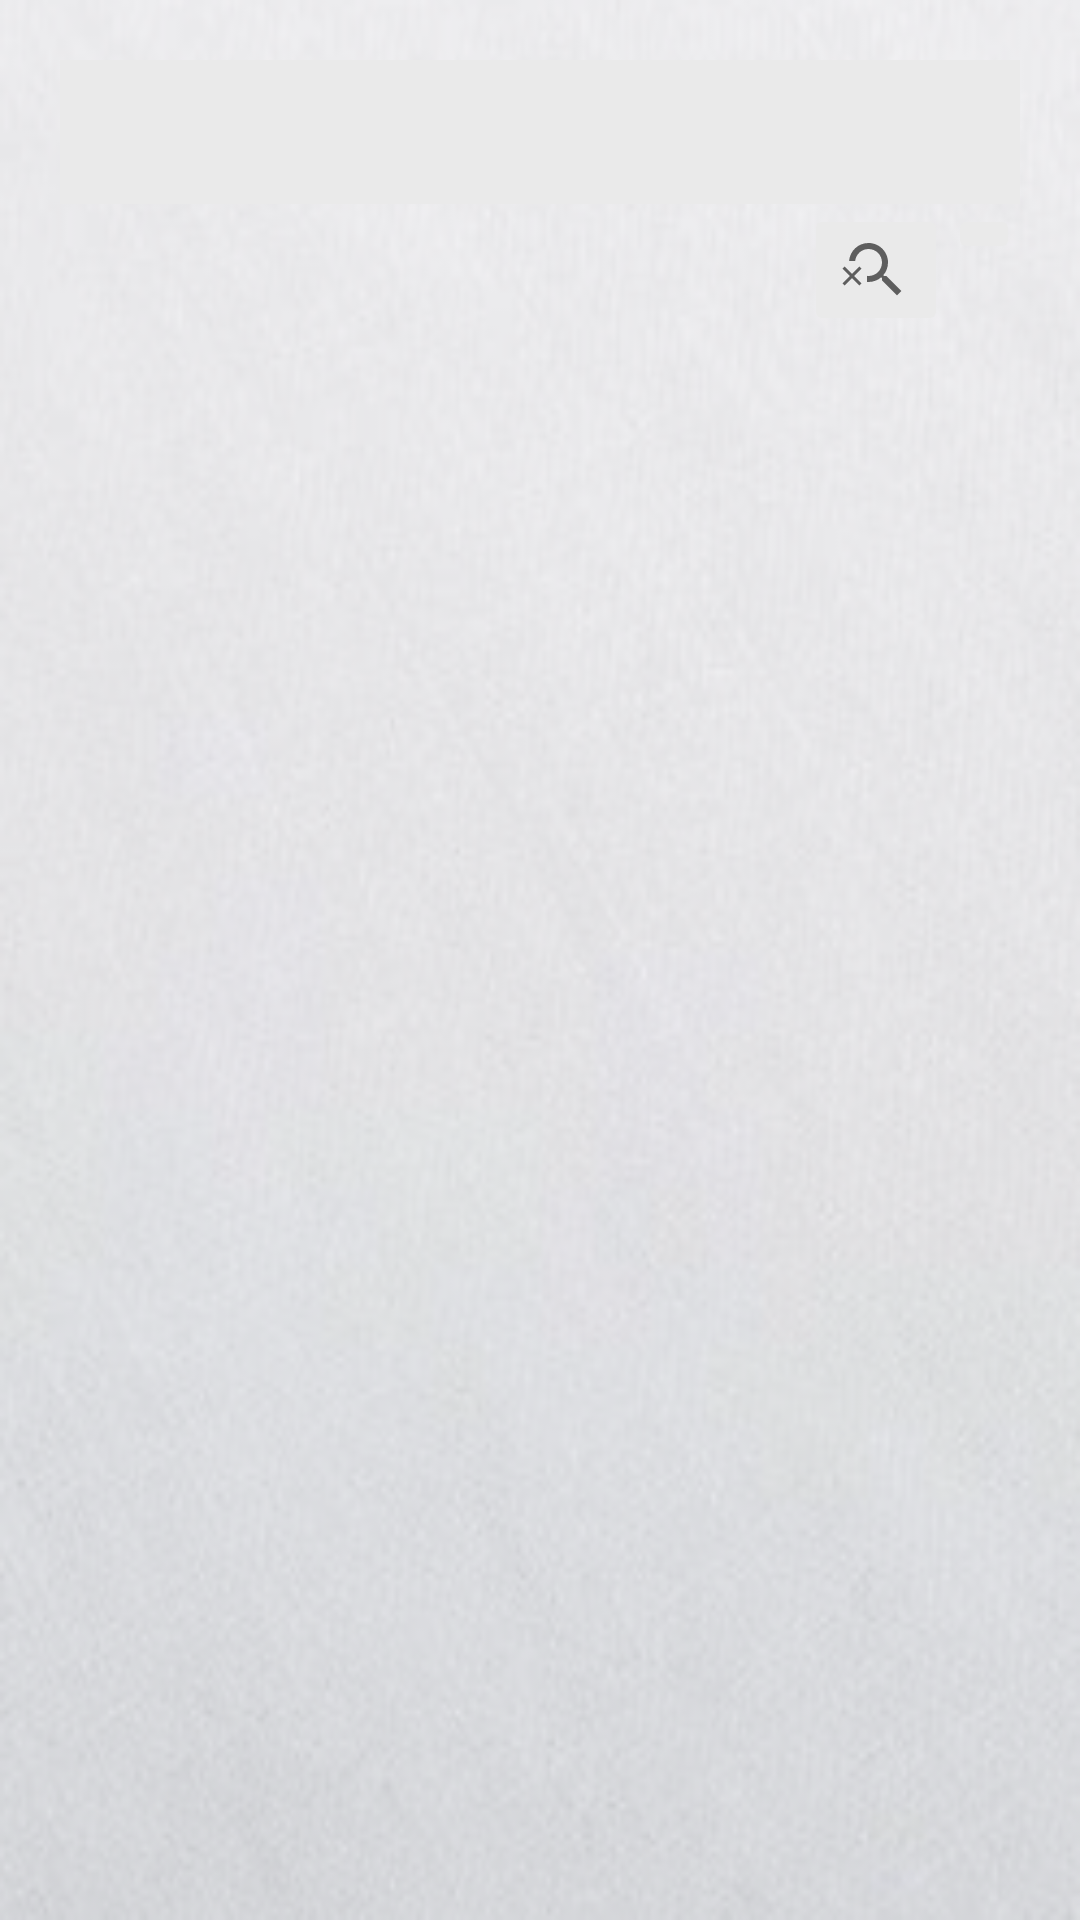

Point at icon controls on the screen. Image size 1080*1920, points as [x,y].
searchoff: [871,269]
